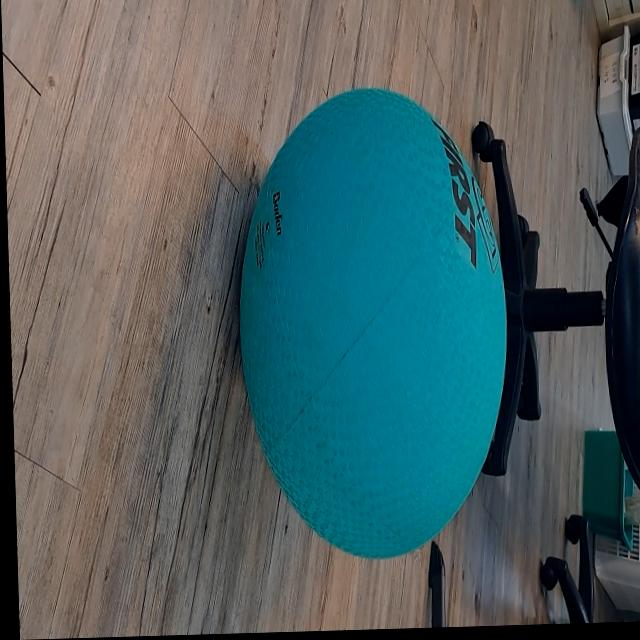ALGAE: (231, 82, 515, 564)
